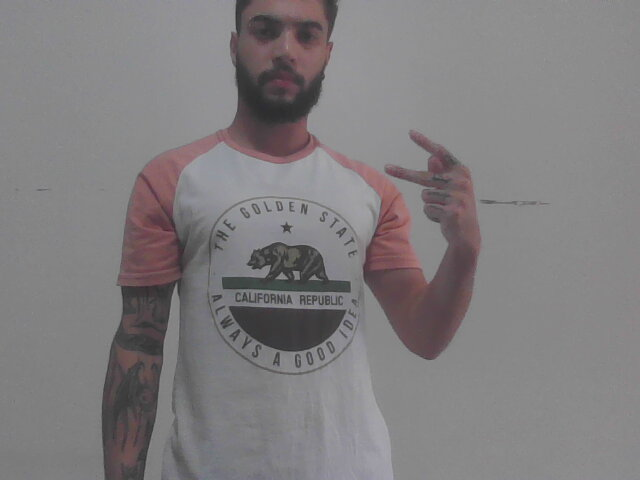p: (380, 120, 488, 255)
